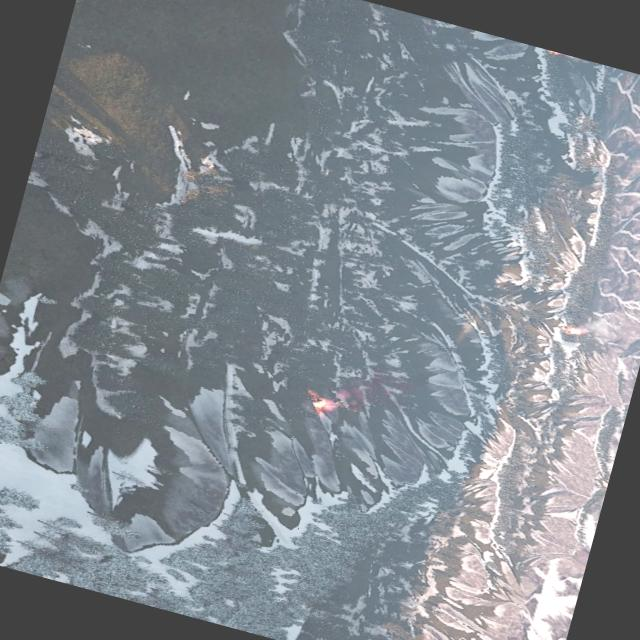fire: (306, 392, 336, 413), (563, 326, 582, 338)
smoke: (326, 366, 394, 422), (582, 311, 628, 346)
